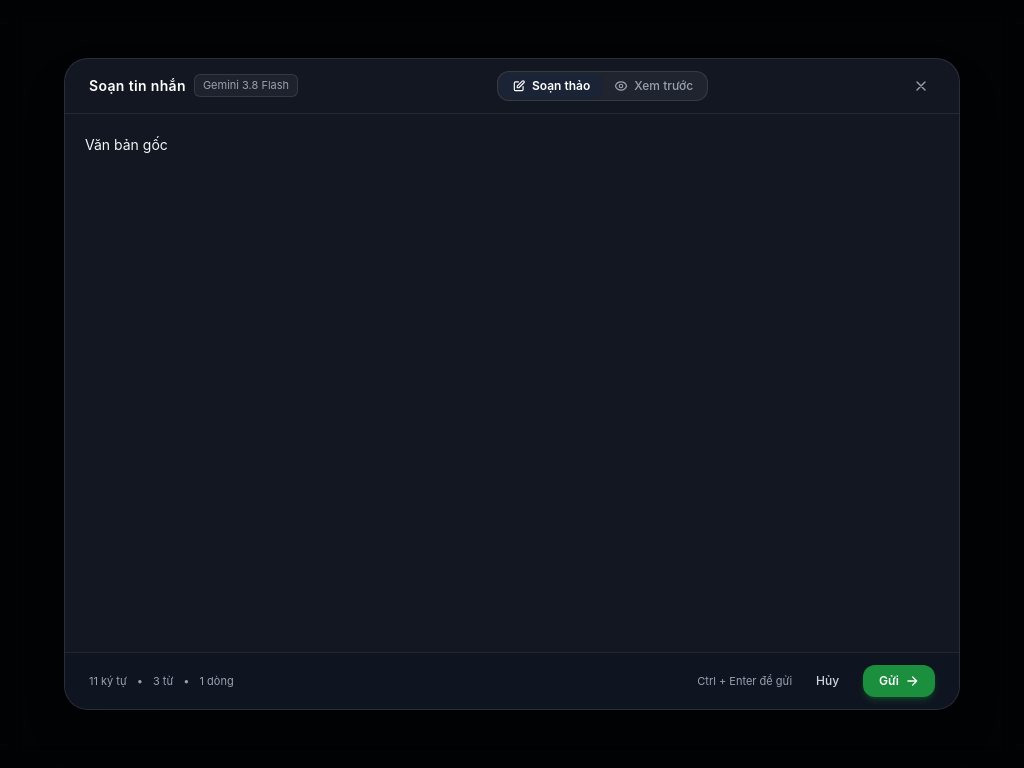
Test: ExpandedEditorModal Component › 3. should preserve draft when switching back and forth between edit and preview tabs
# Switch to preview
Click the tab "Xem trước" at (654, 86), box [602, 74, 705, 98]
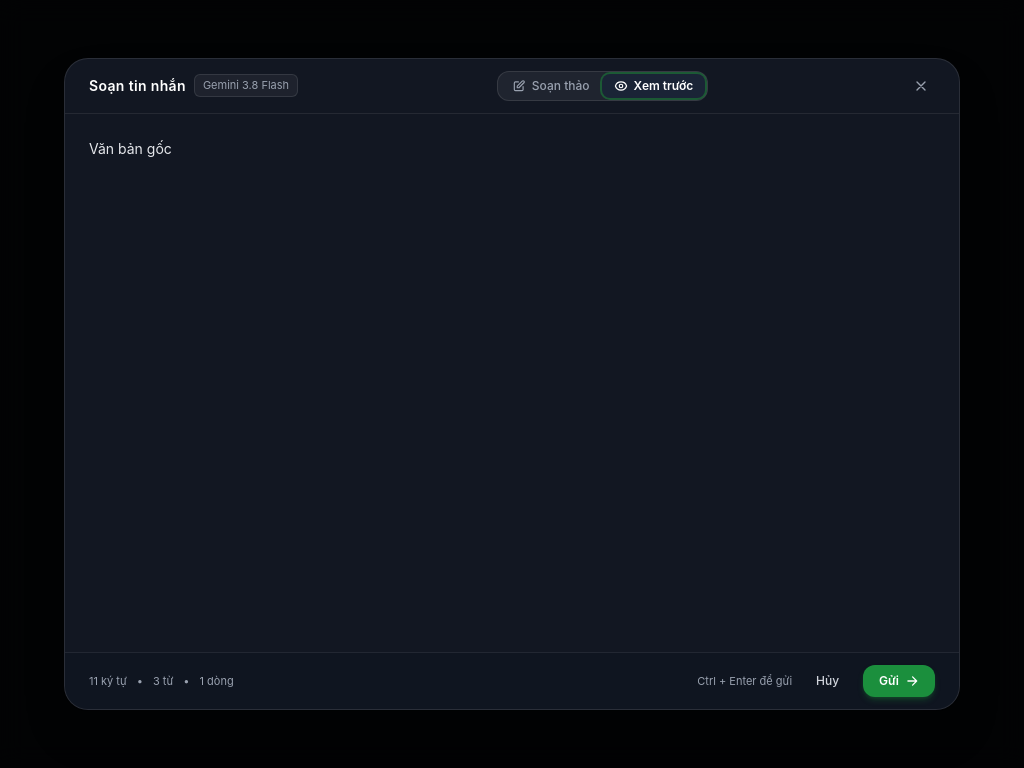
Check: the text "Văn bản gốc" is shown, box [89, 140, 172, 157]
# Switch back to edit
Click the tab "Soạn thảo" at (551, 86), box [500, 74, 602, 98]
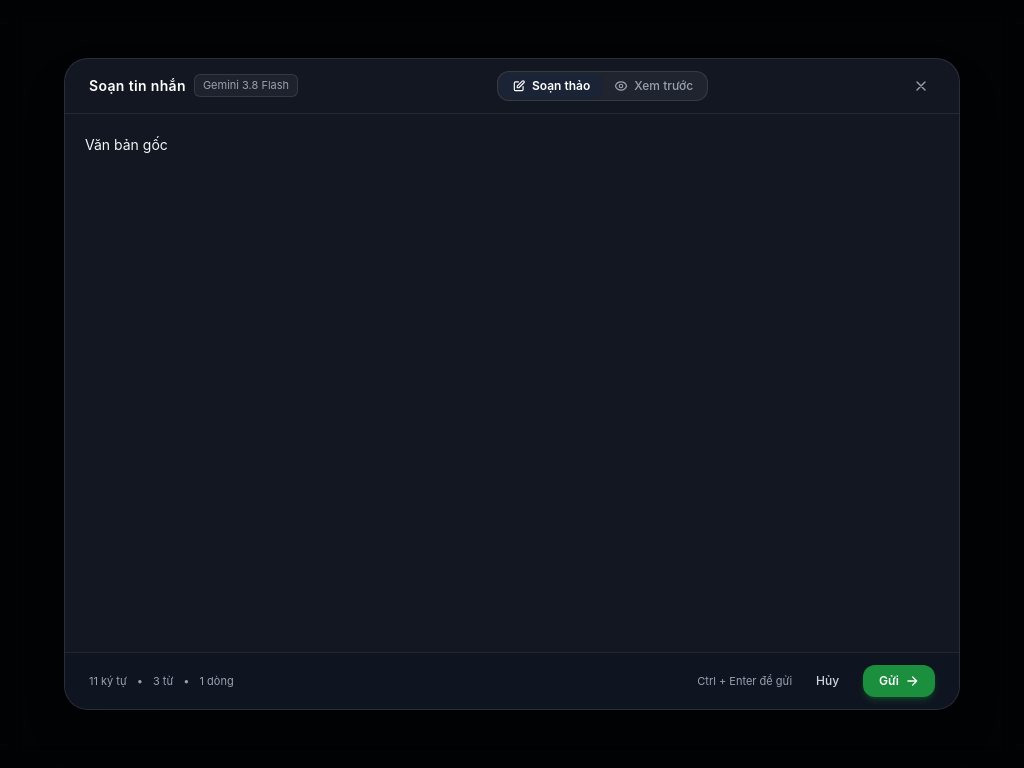
Check: the text box with placeholder "Nhập nội dung tin nhắn chi tiết, đoạn mã, hoặc tài liệu..." holds "Văn bản gốc", box [85, 134, 939, 632]
